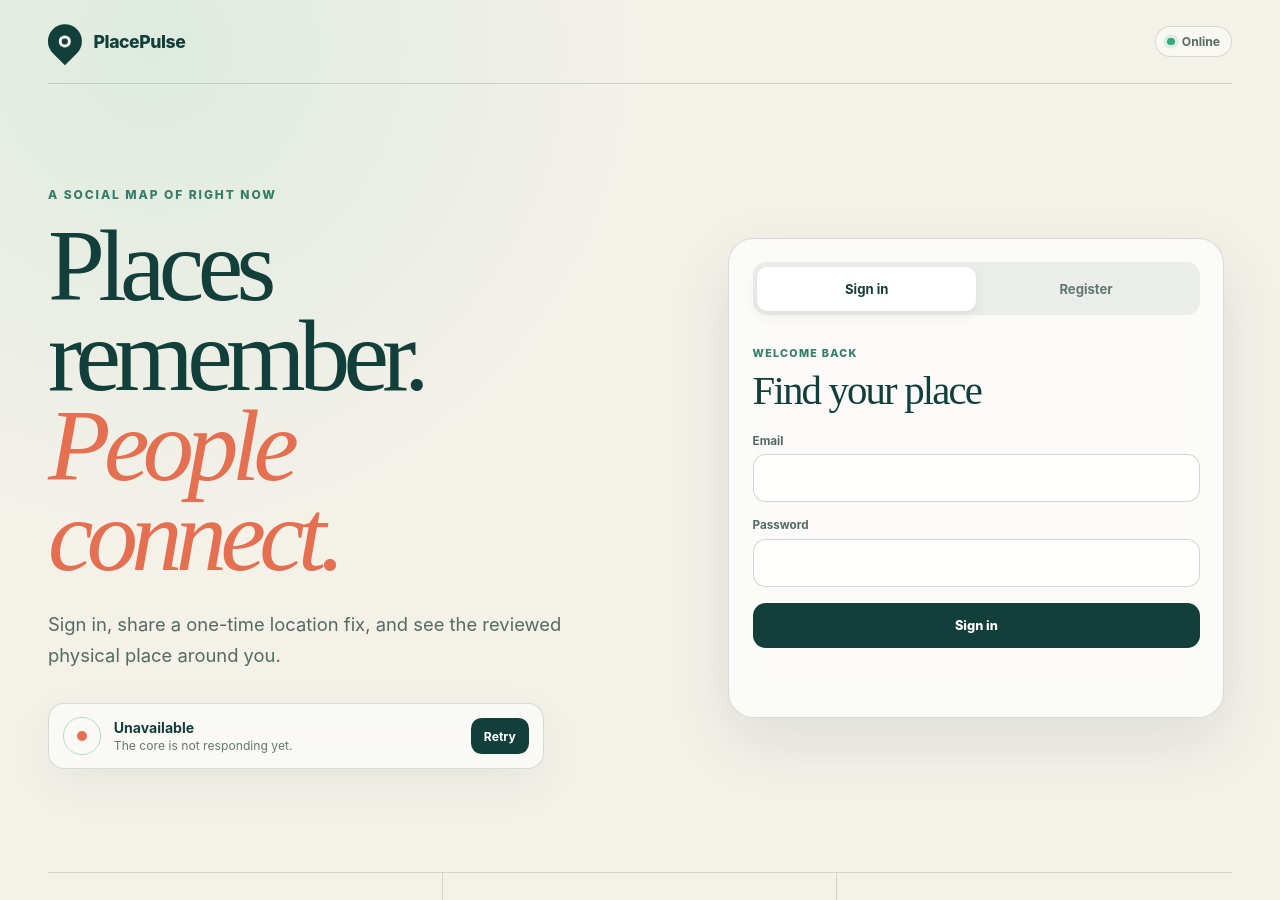
Test: PlacePulse location slice › offers a retry when the gateway is unavailable
The width and height of the screenshot is (1280, 900).
Click the button "Retry" at coordinates (500, 736), box [471,718,529,754]
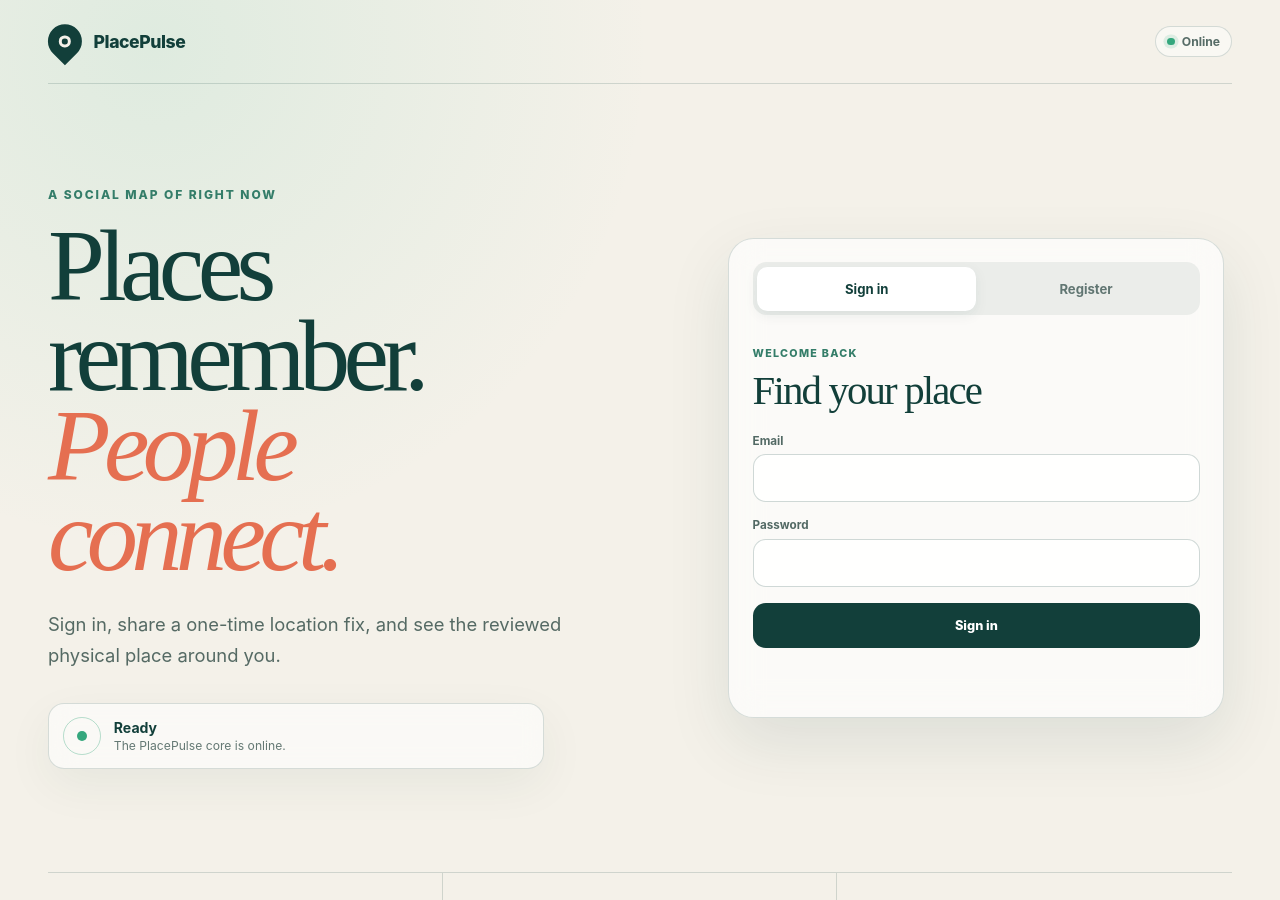
Result: the text "The PlacePulse core is online." is shown at [114,738,286,753]
